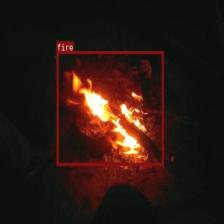fire: (56, 51, 164, 165)
